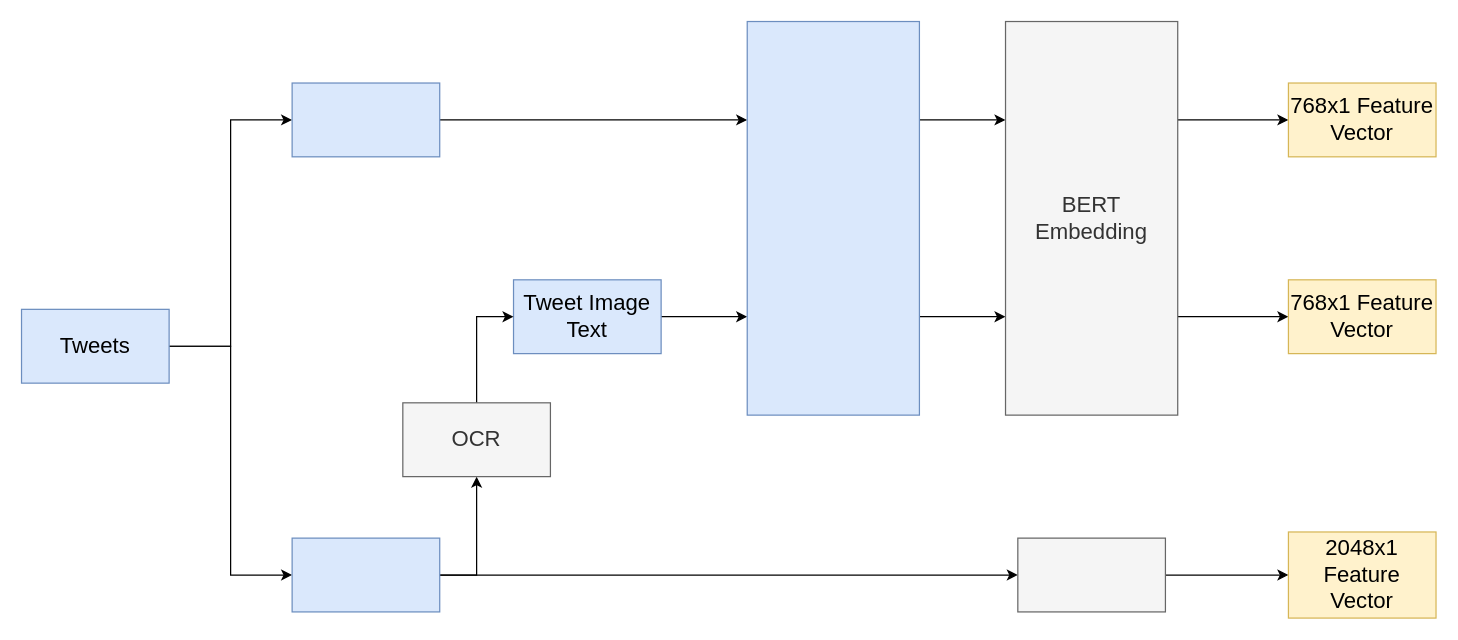
This 1458x640 diagram has some shape labels left out. The shapes that lost their labels are listed below. From the top down, each one's centre as x and y in pixels, then its label:
At (365,119): "Tweet Text".
At (832,217): "Remove usernames, emojis, digits etc.".
At (365,574): "Tweet Image".
At (1091,574): "Inception V3".
